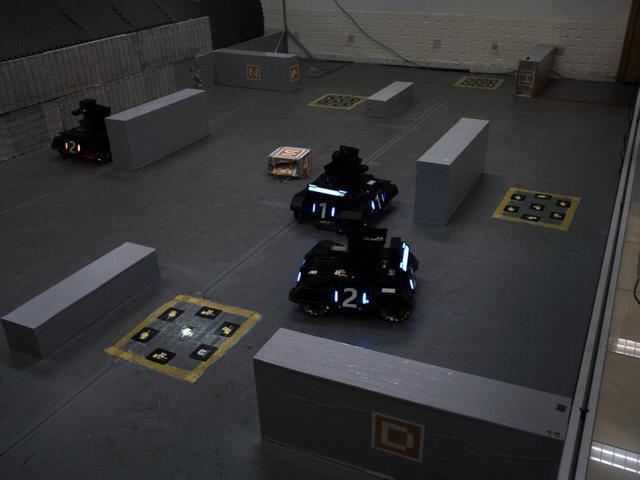armor: (328, 285, 374, 314), (306, 197, 341, 225), (366, 190, 389, 216), (59, 138, 84, 158)
